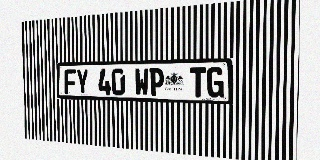0: (111, 68, 125, 95)
4: (98, 69, 111, 95)
F: (64, 69, 76, 94)
G: (207, 67, 224, 98)
P: (149, 68, 164, 96)
T: (190, 67, 206, 97)
W: (135, 68, 149, 96)
Y: (76, 69, 89, 95)
